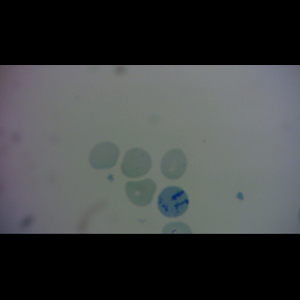aggregate reticulocyte: (156, 185, 190, 219)
erythrocyte: (124, 178, 158, 207), (88, 141, 119, 171)
punctate reticulocyte: (119, 147, 152, 179), (159, 147, 187, 181)
